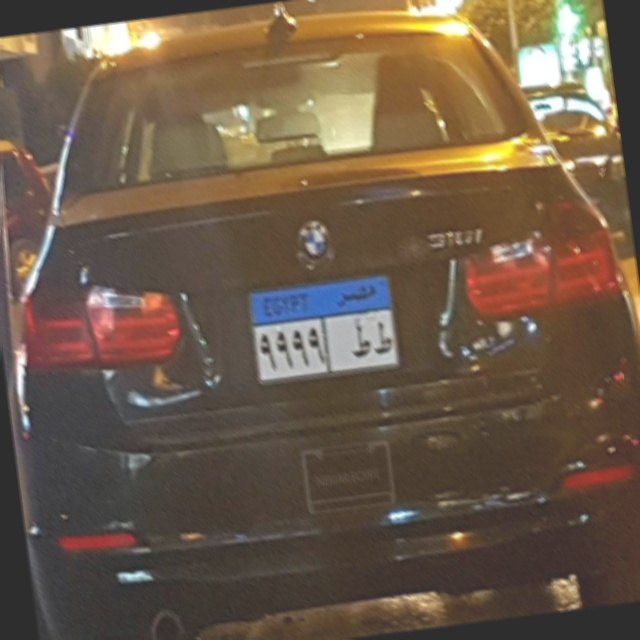License Plate: (239, 268, 407, 391)
